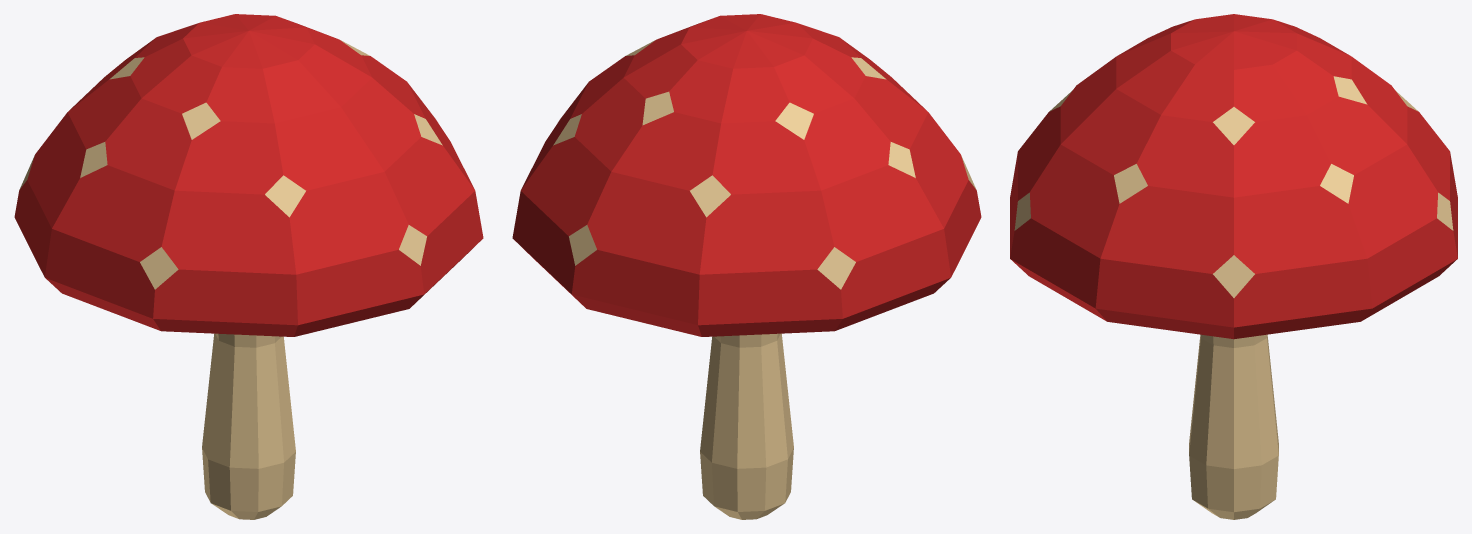
File: Top_3.fbx
3 renders of one model, left to right at view 1: azimuth 30°, elevation 25°; view 2: azimuth 150°, elevation 25°; view 3: azimuth 270°, elevation 25°, orthographic.
Parts seen in each view (by area): view 1: M_Top 3; view 2: M_Top 3; view 3: M_Top 3.
Boxes of the visible parts, x1=… form: M_Top 3: x1=14, y1=14, x2=483, y2=519; M_Top 3: x1=512, y1=14, x2=981, y2=519; M_Top 3: x1=1010, y1=14, x2=1457, y2=519.
Bounding box in the file's own units: 0.1165 × 0.1307 × 0.1108.
1 material, 1 textured.
